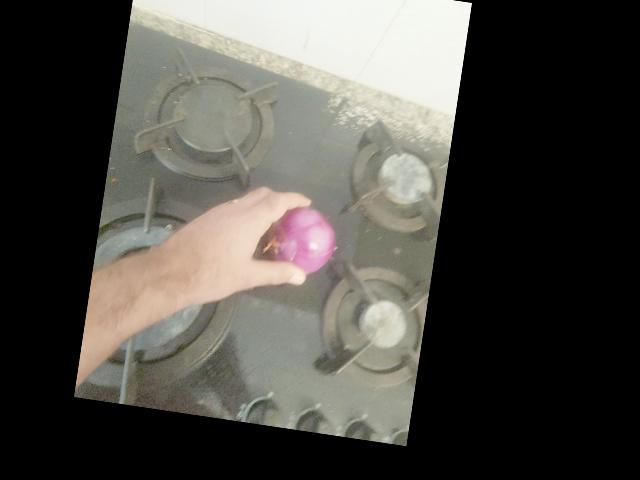onion: (338, 82, 415, 160)
